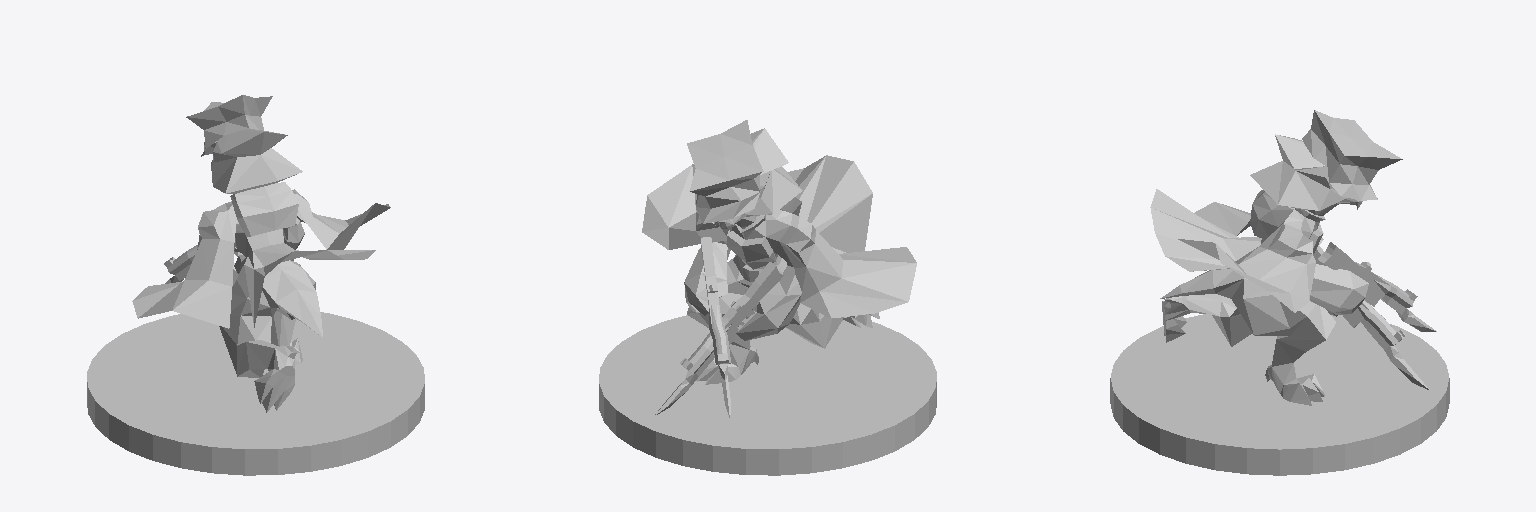
File: kobold_linear_blaster_trooper_02.obj
3 renders of one model, left to right at view 1: azimuth 30°, elevation 25°; view 2: azimuth 150°, elevation 25°; view 3: azimuth 270°, elevation 25°, orthographic.
Visible parts, largest first — view 1: Cylinder, Cube.002_Cube.003, Cube, Cube.003_Cube.001, Cube.004; view 2: Cylinder, Cube.002_Cube.003, Cube, Cube.003_Cube.001, Cube.005, Cube.004; view 3: Cylinder, Cube, Cube.002_Cube.003, Cube.003_Cube.001, Cube.004, Cube.005.
Boxes of the visible parts, box(x1,y1,x2,y2) form: Cylinder: box(87, 312, 424, 475); Cube.002_Cube.003: box(132, 182, 390, 328); Cube: box(211, 128, 322, 412); Cube.003_Cube.001: box(186, 95, 272, 156); Cube.004: box(164, 245, 234, 283); Cylinder: box(599, 315, 936, 475); Cube.002_Cube.003: box(642, 155, 916, 317); Cube: box(684, 128, 879, 384); Cube.003_Cube.001: box(687, 120, 763, 223); Cube.005: box(655, 262, 783, 415); Cube.004: box(701, 237, 730, 417); Cylinder: box(1110, 314, 1449, 475); Cube: box(1160, 134, 1368, 405); Cube.002_Cube.003: box(1150, 189, 1325, 312); Cube.003_Cube.001: box(1302, 110, 1402, 200); Cube.004: box(1318, 242, 1436, 331); Cube.005: box(1313, 245, 1429, 389).
Bounding box in the file's own units: 2.1 × 2.02 × 2.1.